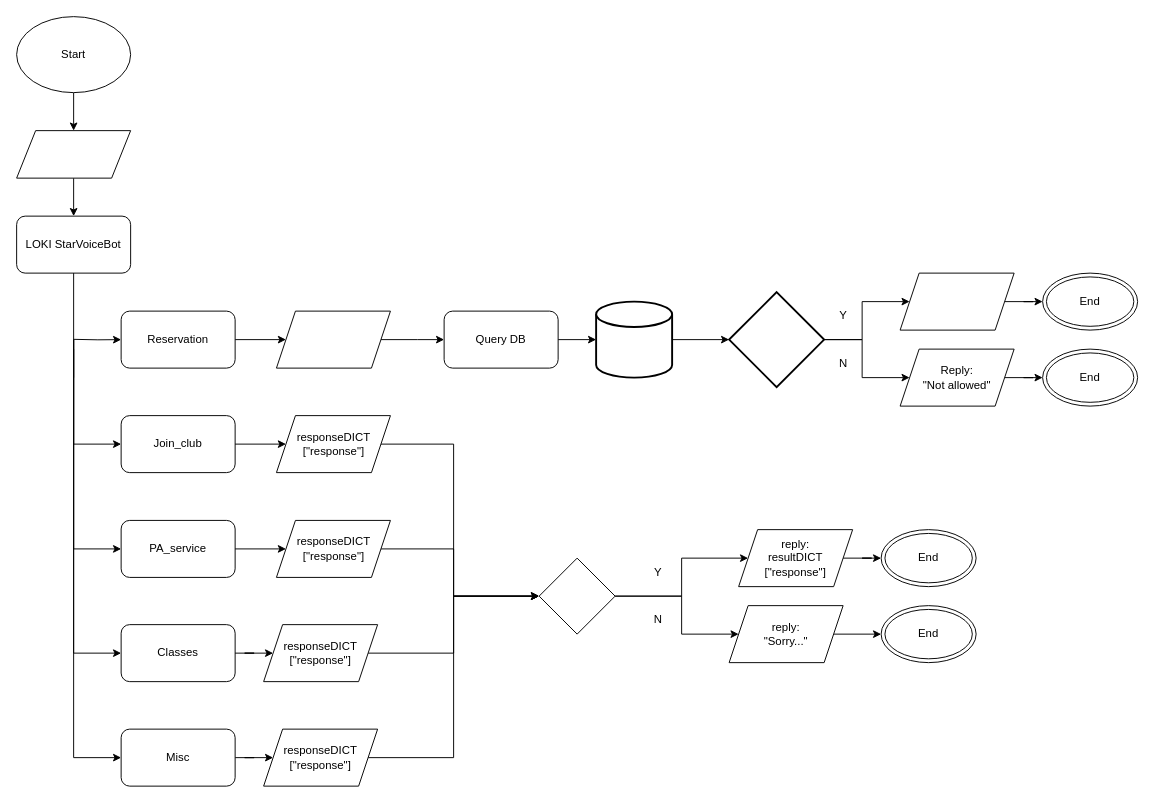
The diagram is 1154 pixels wide and 803 high, and some of its shapes have lost their labels. The shapes that lost their labels are listed below. From the top down, each one's box as (x1, y1, x2, y2) in pixels, then its label:
(16, 130, 131, 178): User message
(899, 272, 1014, 330): Reply: Link to sheet
(276, 310, 390, 368): user student ID
(595, 300, 673, 378): Member data
(728, 291, 825, 388): Member found in DB?
(538, 557, 615, 634): response?
